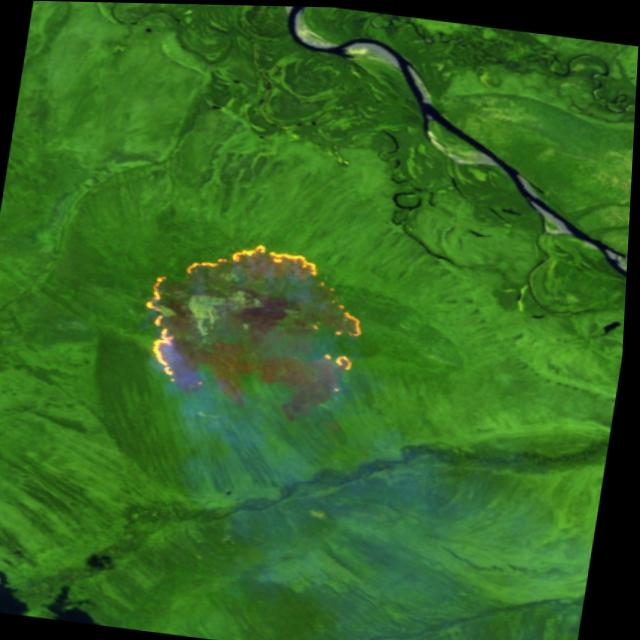fire: (133, 229, 383, 408)
